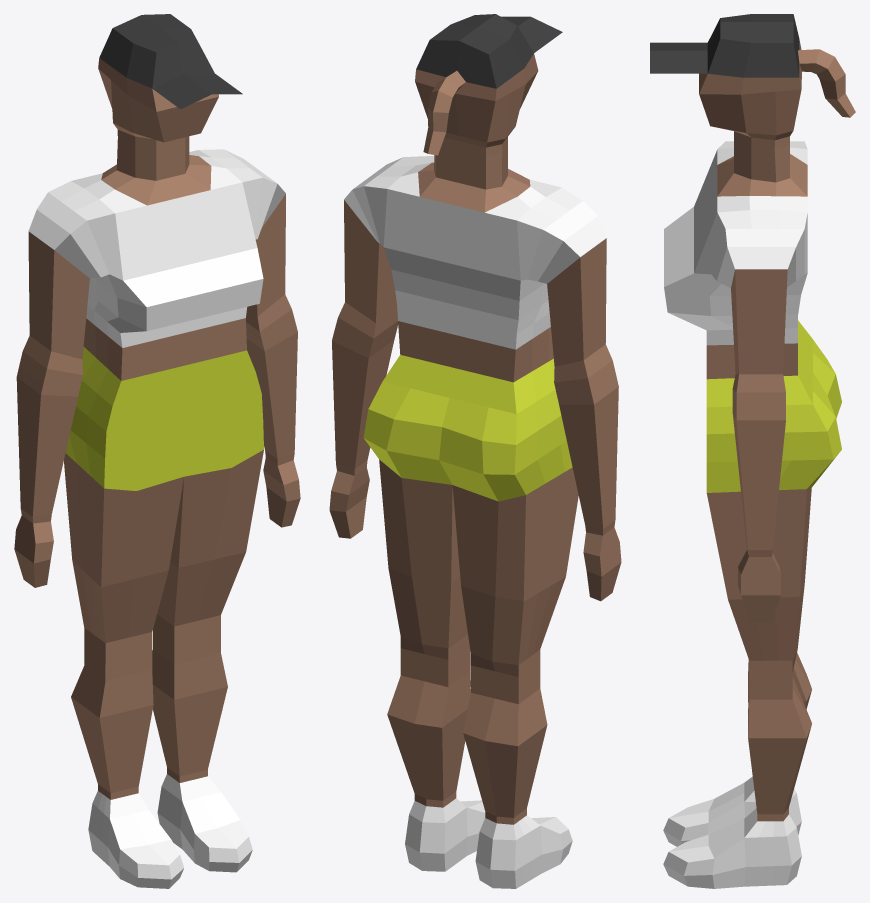
Rendered from Girl1.fbx.
The picture shows the model from 3 angles, left to right: view 1: azimuth 30°, elevation 25°; view 2: azimuth 150°, elevation 25°; view 3: azimuth 270°, elevation 25°; orthographic projection. The views are drawn at different scales.
Parts seen in each view (by area): view 1: Girl; view 2: Girl; view 3: Girl.
Part boxes in pixels (x1=…): Girl: x1=14, y1=14, x2=300, y2=888; Girl: x1=329, y1=14, x2=621, y2=888; Girl: x1=650, y1=14, x2=855, y2=888.
Size of the model in its own units: 57.85 by 170 by 37.96.
